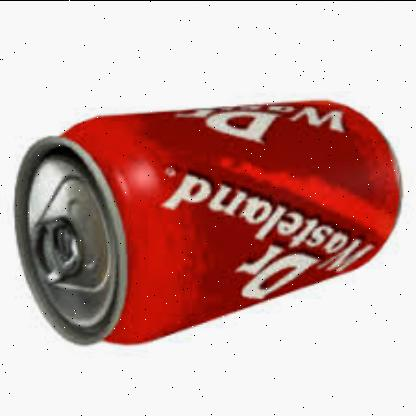Can: (15, 102, 401, 344)
